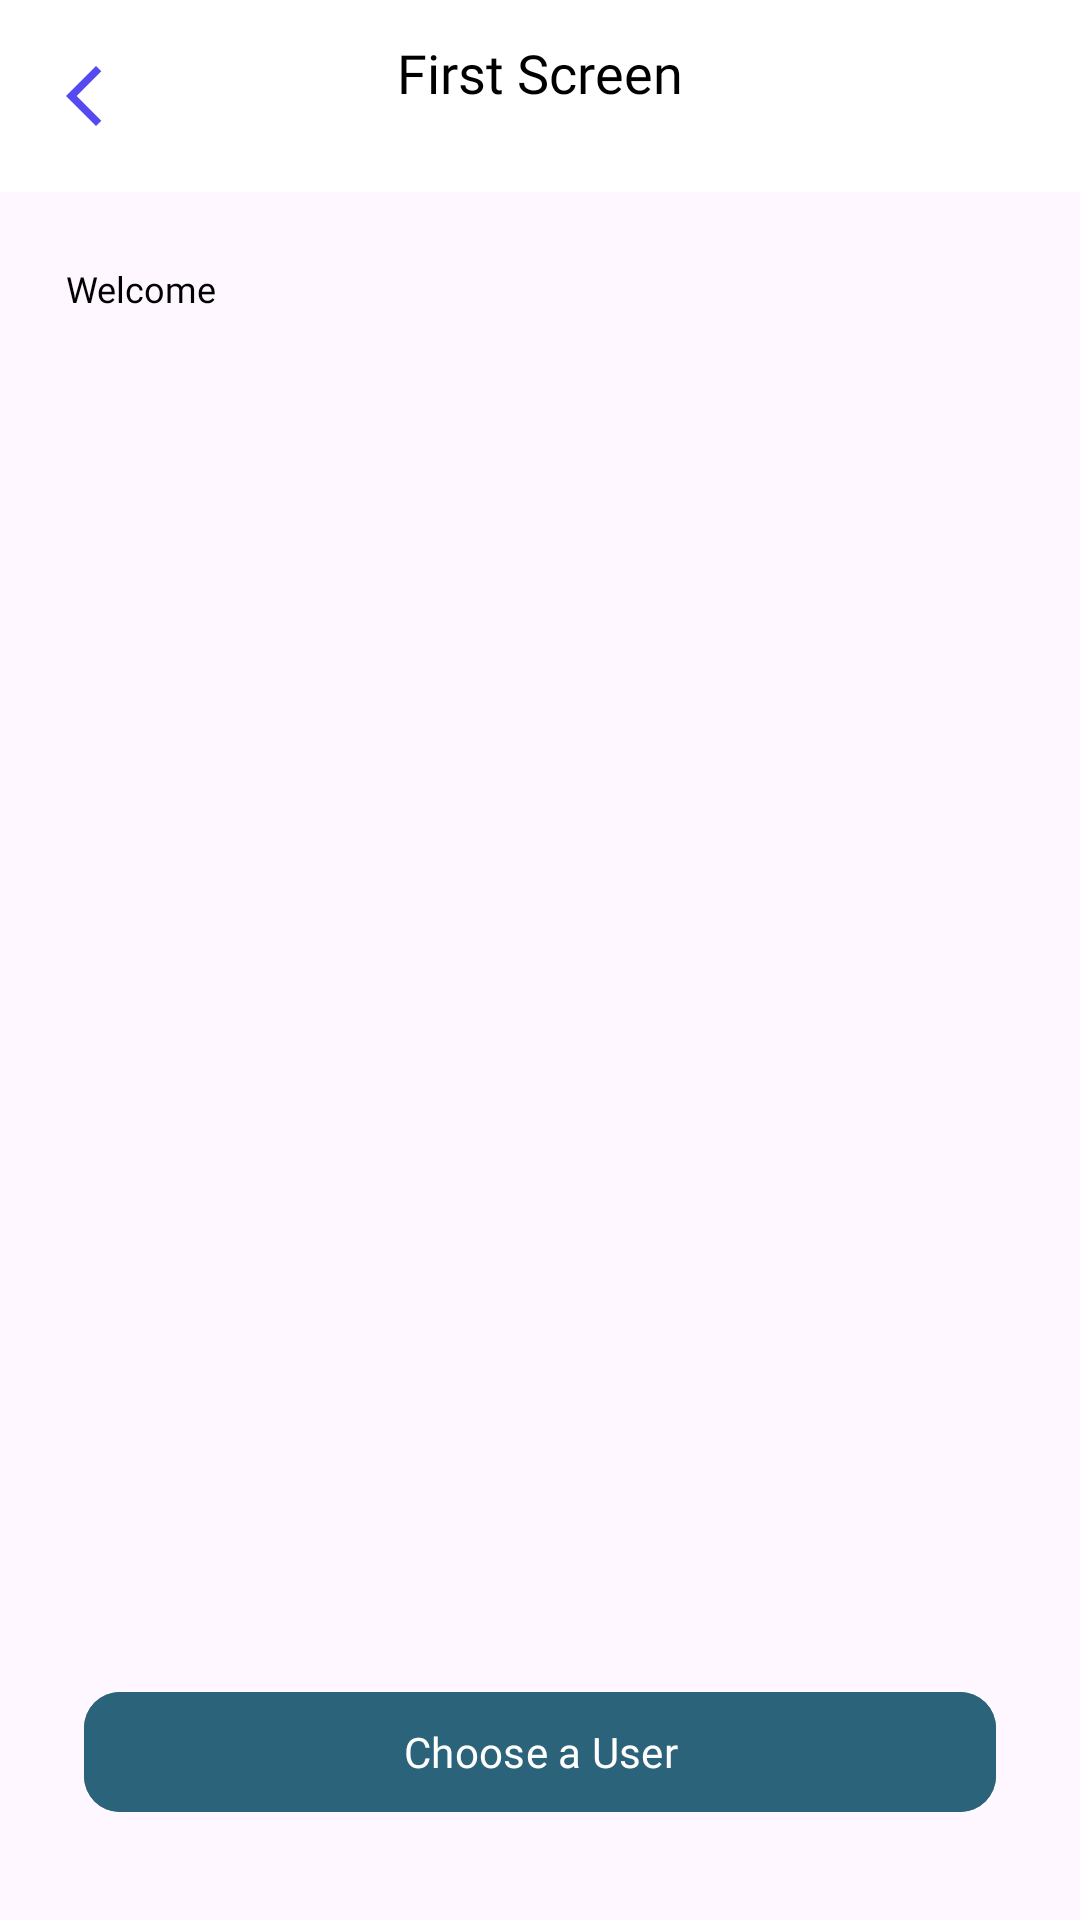

Where to tap for icons on this 1080×1920 app screen, as point (x, y):
back: point (83, 96)
